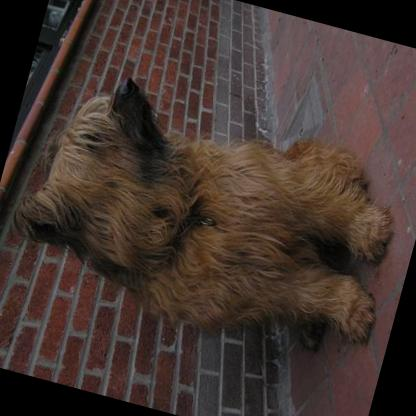briard: (0, 55, 416, 367)
